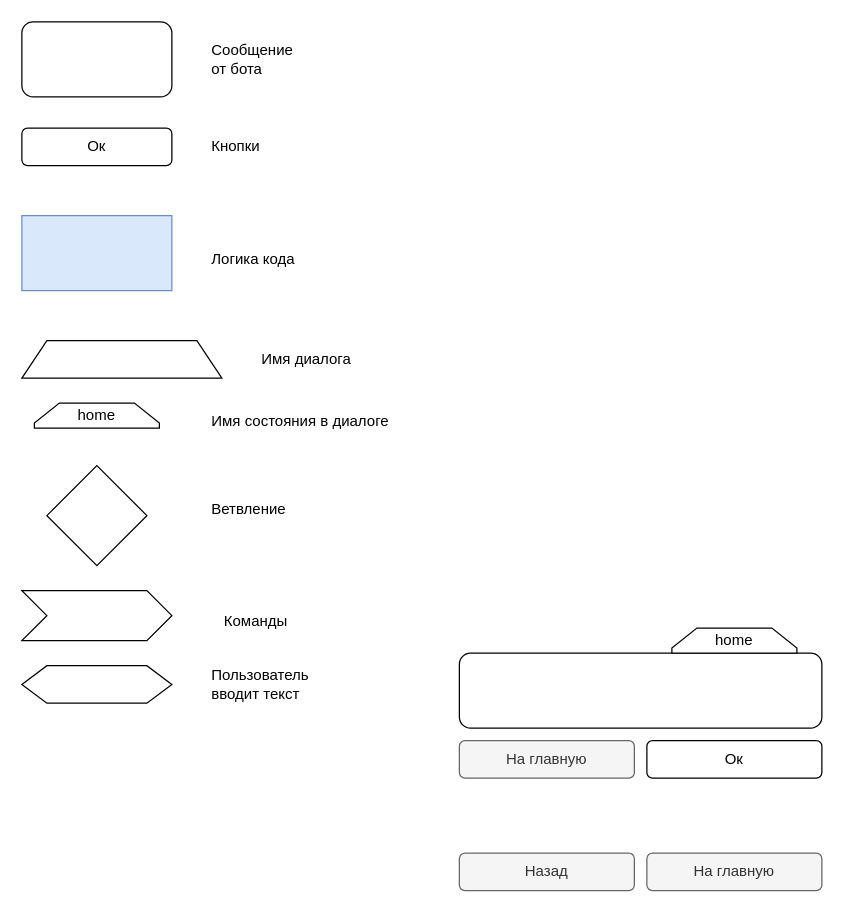
Some shapes in this 844 by 913 pixel diagram are drawn without their labels. The shapes that lost their labels are listed below. From the top down, each one's box as (x1, y1, x2, y2) in pixels, then its label:
(21, 339, 222, 378): DELAY_DIALOG
(458, 652, 822, 728): Сообщение
